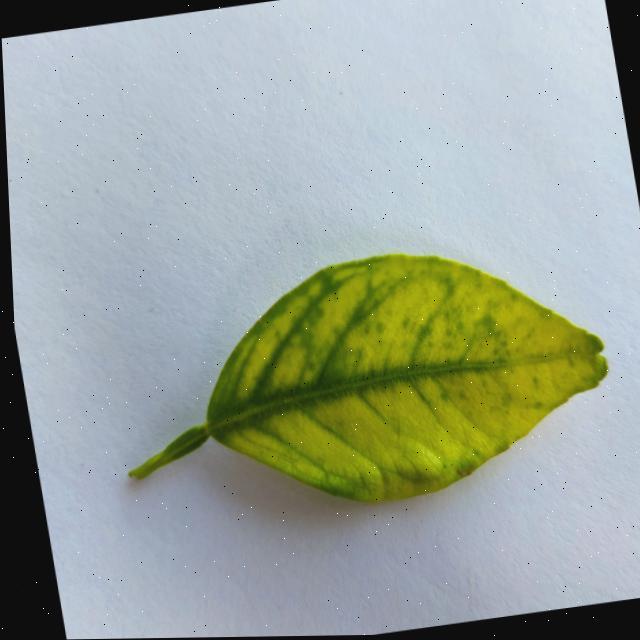greening: (128, 253, 606, 500)
